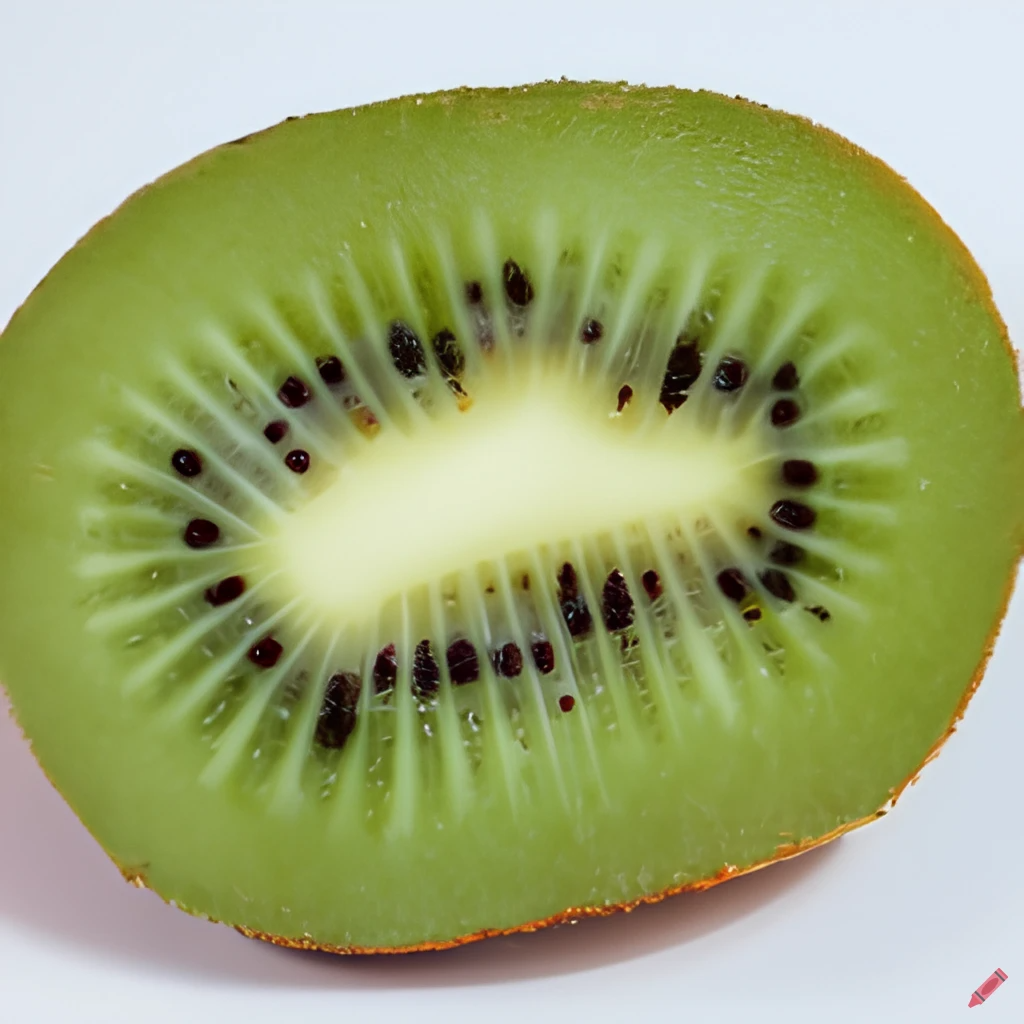Kiwi: (0, 74, 1002, 956)
